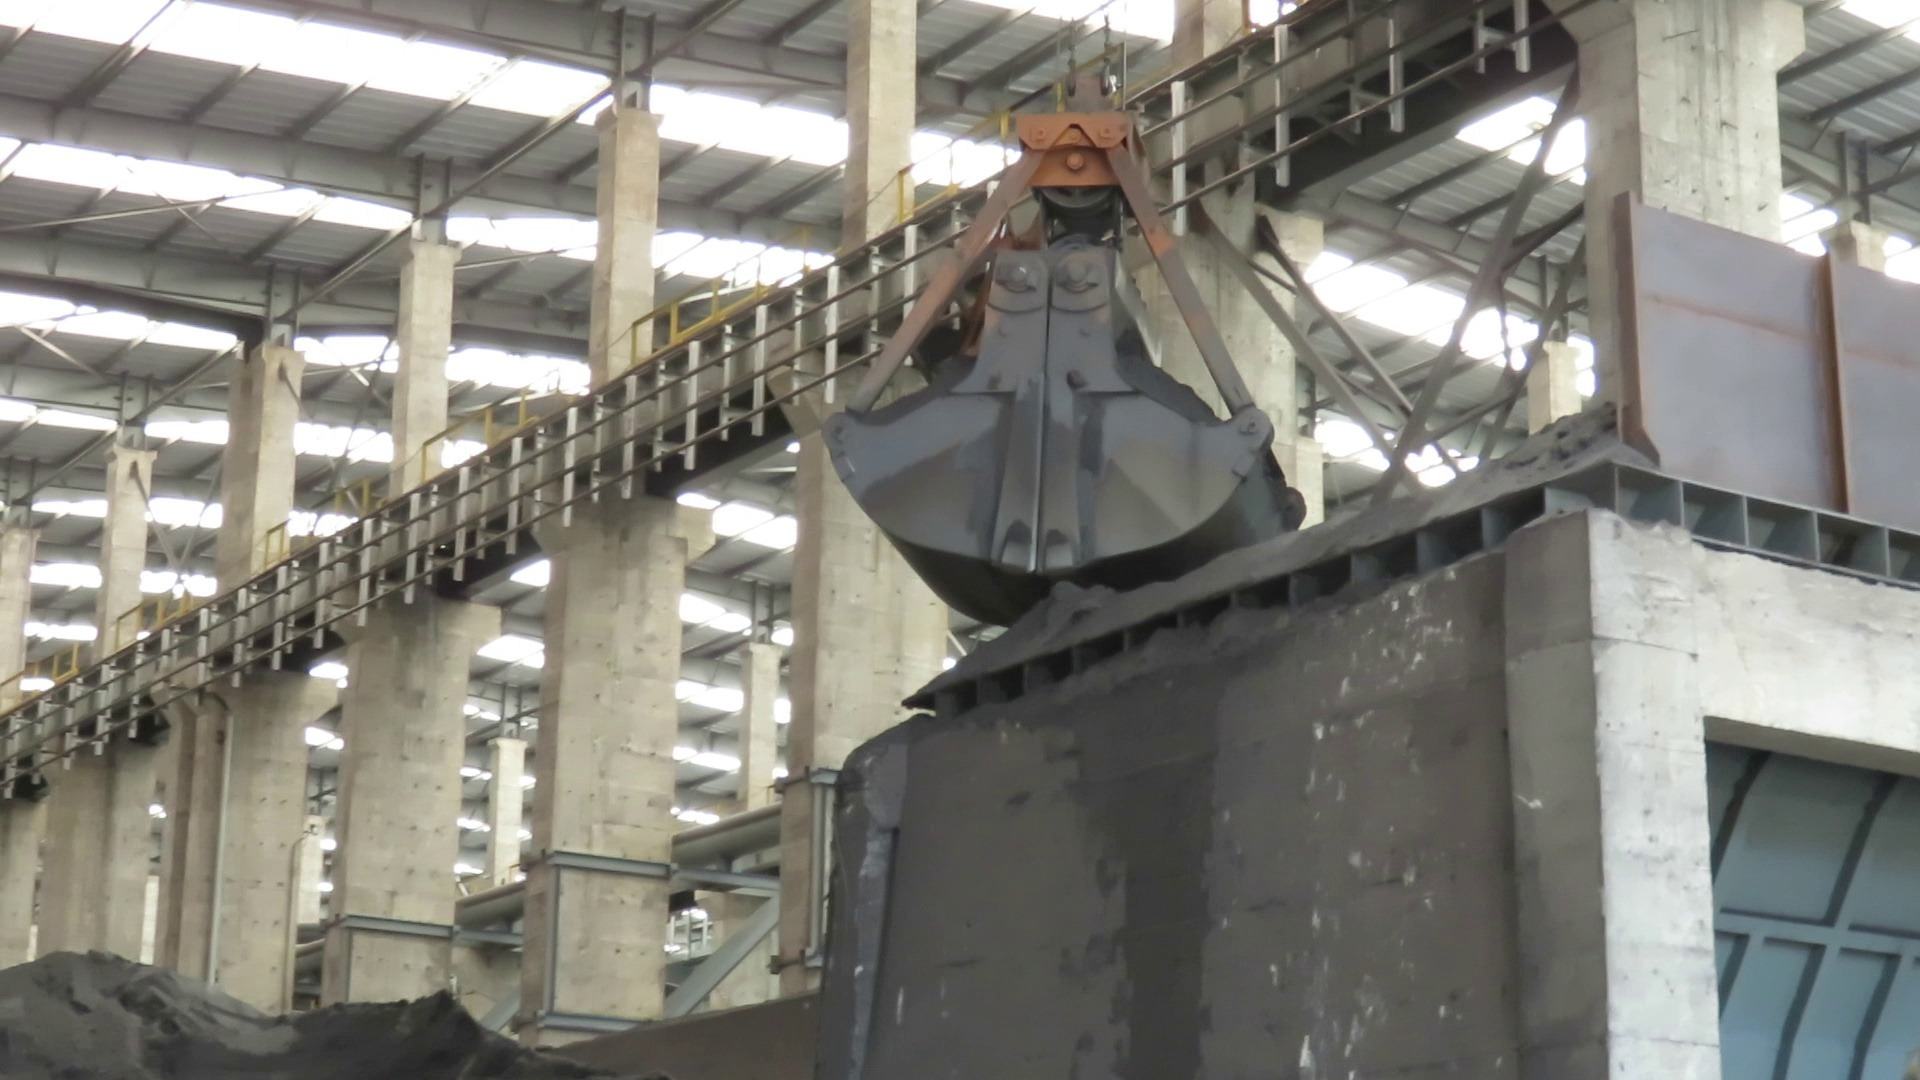grab: (816, 53, 1319, 636)
